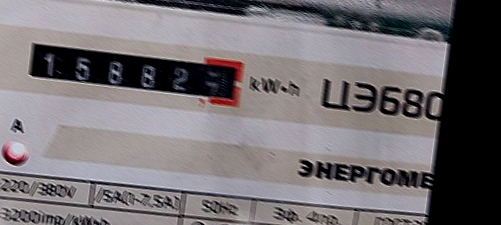1: (40, 48, 57, 78)
2: (170, 64, 189, 94)
5: (71, 53, 93, 82)
7: (202, 78, 220, 97)
8: (104, 58, 123, 87), (138, 61, 156, 91)
screen: (13, 25, 254, 117)
